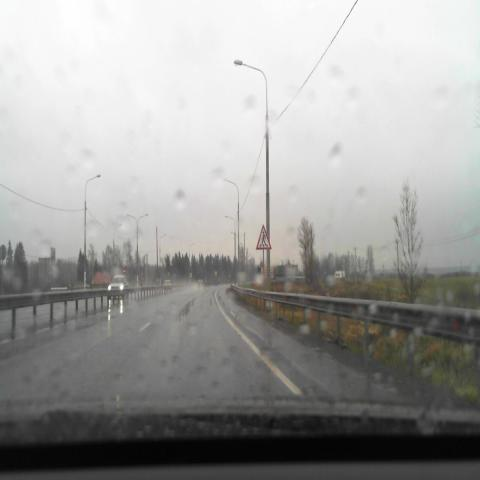1_22: (256, 224, 272, 249)
